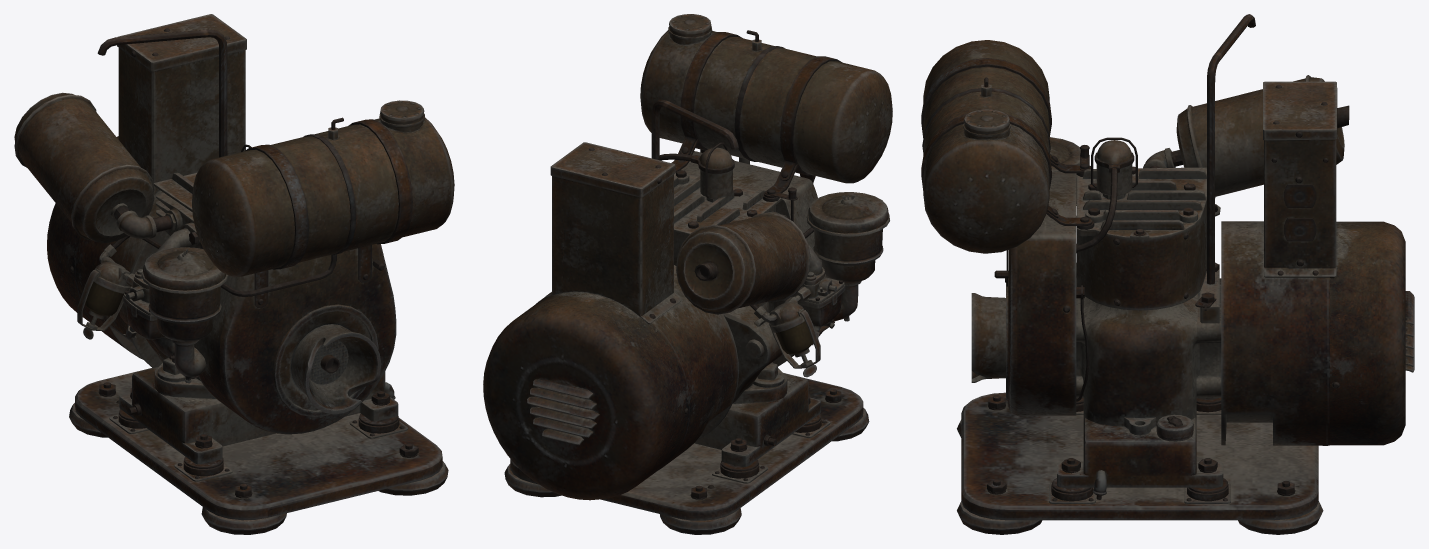
File: generator.fbx
The picture shows the model from 3 angles, left to right: view 1: azimuth 30°, elevation 25°; view 2: azimuth 150°, elevation 25°; view 3: azimuth 270°, elevation 25°; orthographic projection. The views are drawn at different scales.
Parts seen in each view (by area): view 1: Generator; view 2: Generator; view 3: Generator.
Boxes of the visible parts, x1=… form: Generator: x1=14, y1=14, x2=454, y2=534; Generator: x1=483, y1=14, x2=892, y2=534; Generator: x1=921, y1=14, x2=1414, y2=534.
Size of the model in its own units: 229 by 314 by 339.
